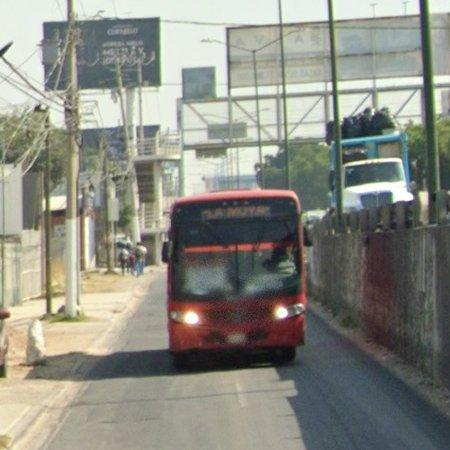buses: (165, 192, 307, 366)
